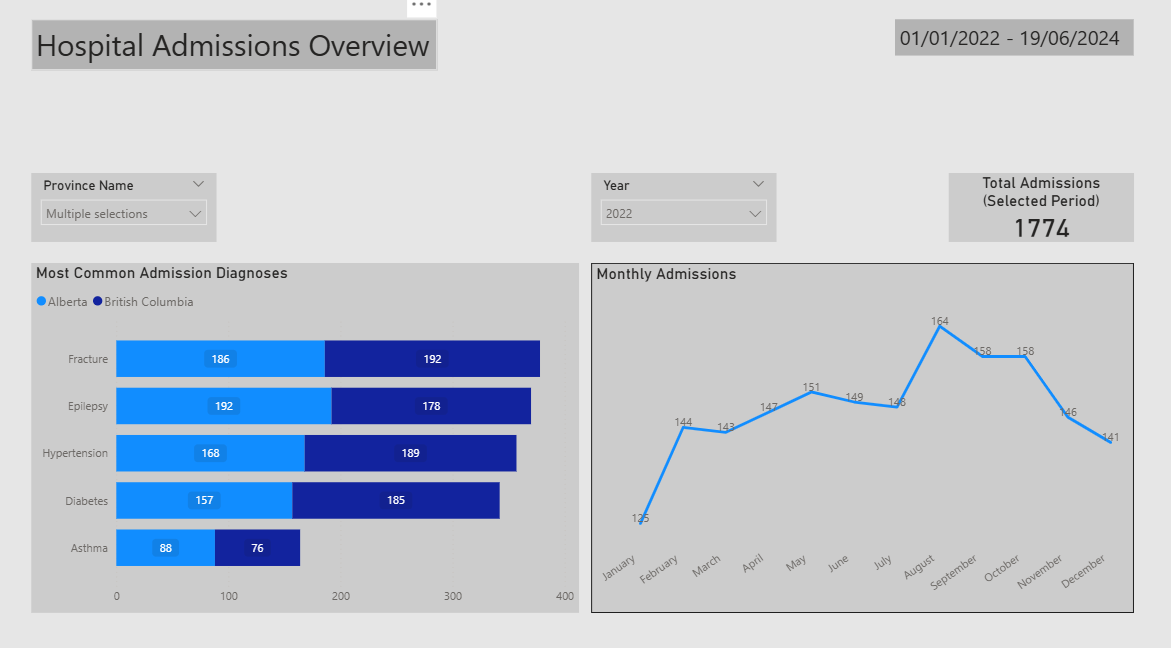

Layout of this report page (visuals, bound fields, positions):
{"tool":"powerbi","page":{"name":"Page 1","canvas":[1280,720],"ordinal":0},"visuals":[{"type":"lineChart","title":"Monthly Admissions","fields":{"Category":["public admissions.admission_date.Variation.Date Hierarchy.Month"],"Y":["CountNonNull(public admissions.diagnosis)"]},"box":[648.9,296.8,585.5,377.7],"z":0},{"type":"barChart","title":"Most Common Admission Diagnoses","fields":{"Category":["public admissions.diagnosis"],"Y":["CountNonNull(public admissions.admission_date)"],"Series":["public provinces.province_name"]},"box":[44.5,296.8,590.9,377.7],"z":1000},{"type":"card","title":"Total Admissions (Selected Period)","fields":{"Values":["public admissions.Total_admissions"]},"box":[1034.7,199.7,199.7,74.2],"z":2000},{"type":"textbox","box":[44.5,33.7,438.5,55.3],"z":3000},{"type":"slicer","fields":{"Values":["public provinces.province_name"]},"box":[44.5,199.7,199.7,74.2],"z":4000},{"type":"slicer","fields":{"Values":["public admissions.admission_date.Variation.Date Hierarchy.Year"]},"box":[648.9,199.7,199.7,74.2],"z":5000},{"type":"textbox","box":[976.7,33.7,257.7,39.1],"z":6000}]}

Visuals, with their boxes in screenshot pixels (x1, y1, x2, y2), scaled from the page's 1280x720 canvas onto the 1171x648 screenshot:
"Monthly Admissions" lineChart: l=594, t=267, r=1129, b=607
"Most Common Admission Diagnoses" barChart: l=41, t=267, r=581, b=607
"Total Admissions (Selected Period)" card: l=947, t=180, r=1129, b=247
textbox: l=41, t=30, r=442, b=80
slicer - public provinces.province_name: l=41, t=180, r=223, b=247
slicer - public admissions.admission_date.Variation.Date Hierarchy.Year: l=594, t=180, r=776, b=247
textbox: l=894, t=30, r=1129, b=66
